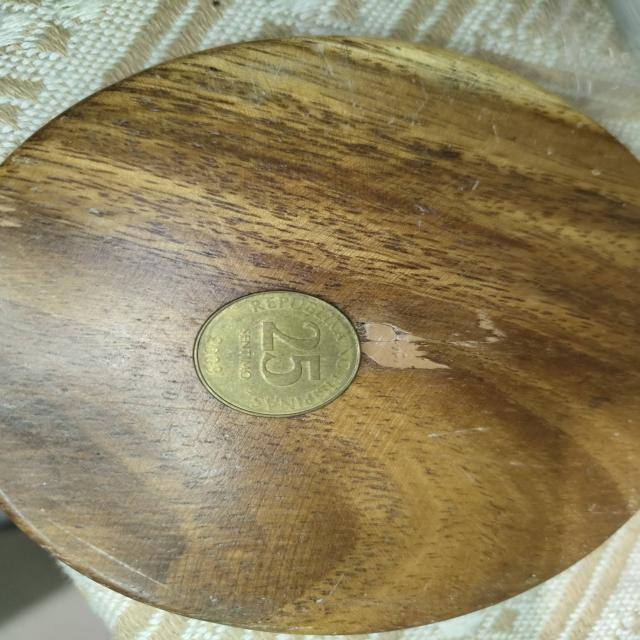25 cents-old: (187, 277, 364, 422)
